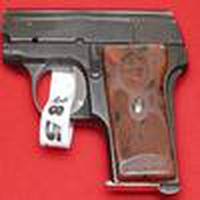gun: (3, 10, 194, 193)
